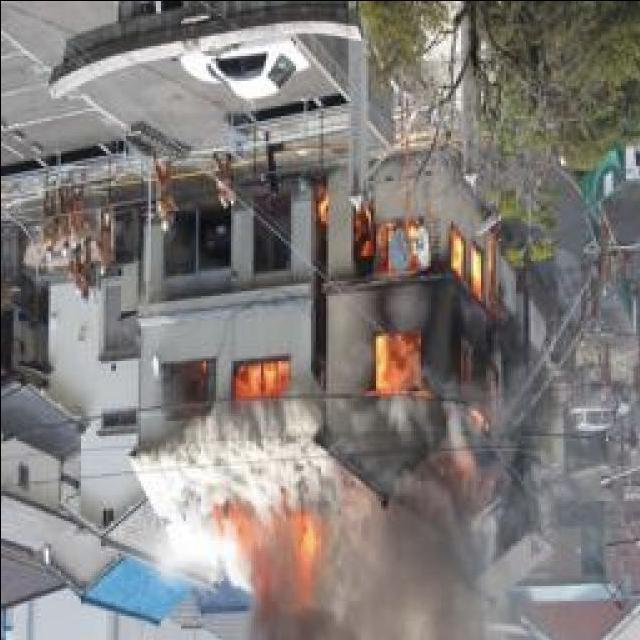Fire: (312, 171, 518, 481), (221, 496, 329, 601), (228, 354, 286, 396)
